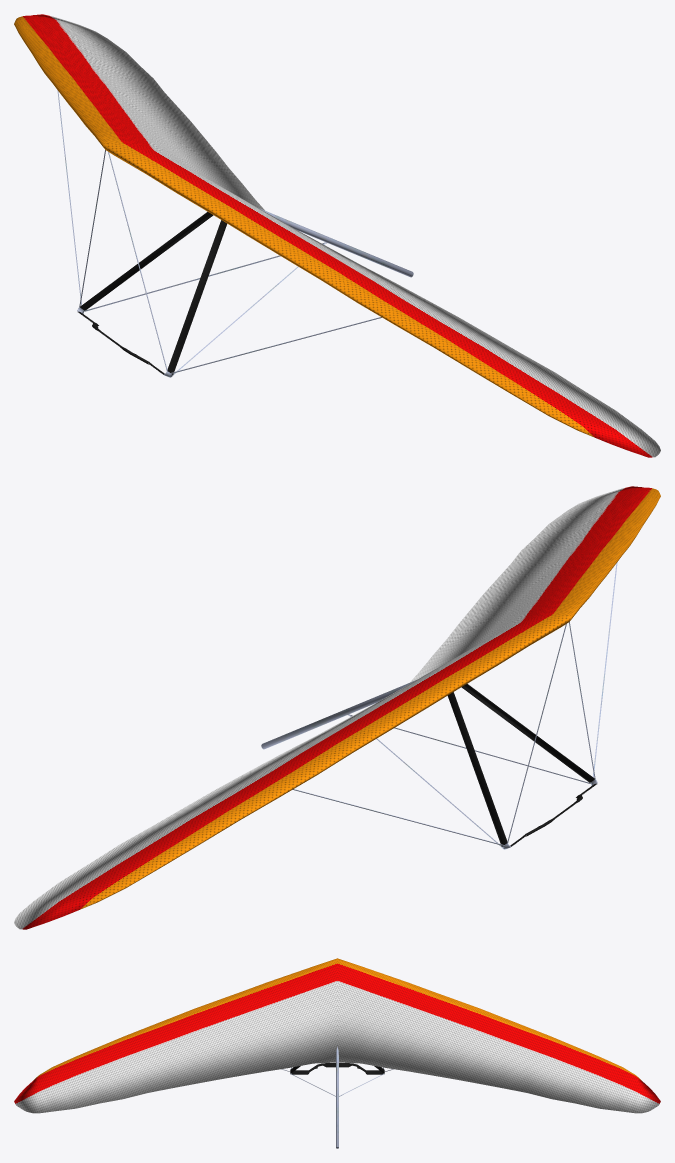
Rendered from hang-glider-red-launch-cbj_LOD00.gltf.
3 views of the same model, one above another, from view 1: azimuth 30°, elevation 25°; view 2: azimuth 150°, elevation 25°; view 3: azimuth 270°, elevation 25° (orthographic). The views are drawn at different scales.
Visible parts, largest first — view 1: hang-glider00; view 2: hang-glider00; view 3: hang-glider00.
Part boxes in pixels (box(x1,y1,x2,y2)): hang-glider00: box(14, 14, 660, 457); hang-glider00: box(14, 486, 660, 929); hang-glider00: box(14, 958, 660, 1148).
Size of the model in its own units: 2.97 by 1.9 by 10.05.
